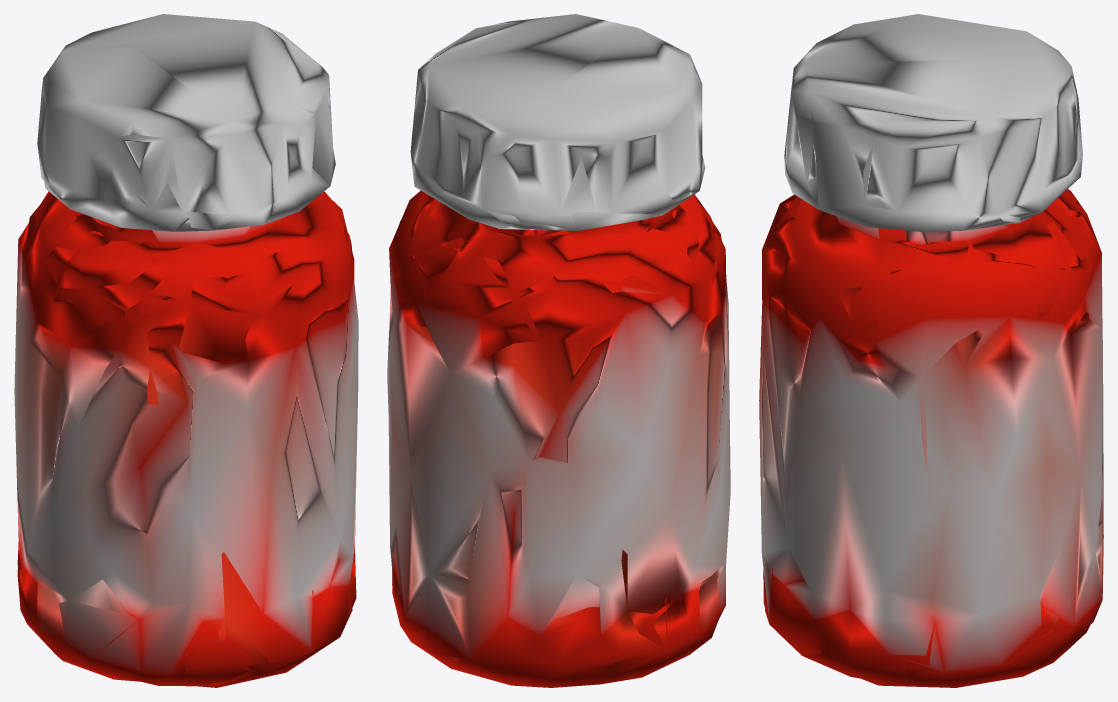
File: gen3d-pill-bottle-lod1.glb
3 renders of one model, left to right at view 1: azimuth 30°, elevation 25°; view 2: azimuth 150°, elevation 25°; view 3: azimuth 270°, elevation 25°, orthographic.
Parts seen in each view (by area): view 1: part_0; view 2: part_0; view 3: part_0.
Boxes of the visible parts, x1,y1,x2,y2 form: part_0: (14, 14, 358, 687); part_0: (387, 14, 730, 687); part_0: (759, 14, 1103, 687).
Bounding box in the file's own units: 0.5516 × 0.9971 × 0.5526.
